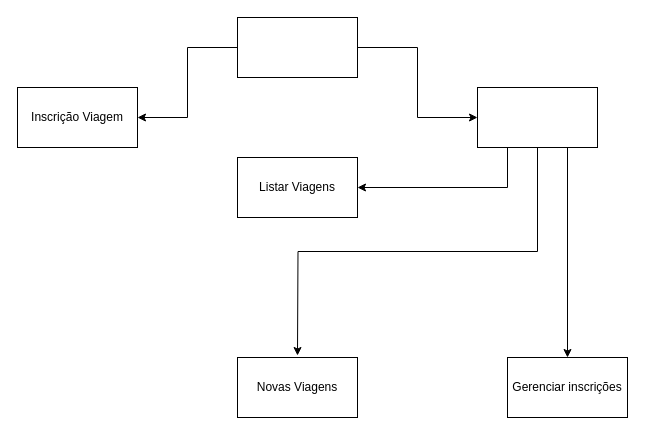
This 645x435 diagram has some shape labels left out. Here are the shapes that lost their labels. From the top down, the centre of each, then its label:
[297,47]: Home
[537,117]: Privado
